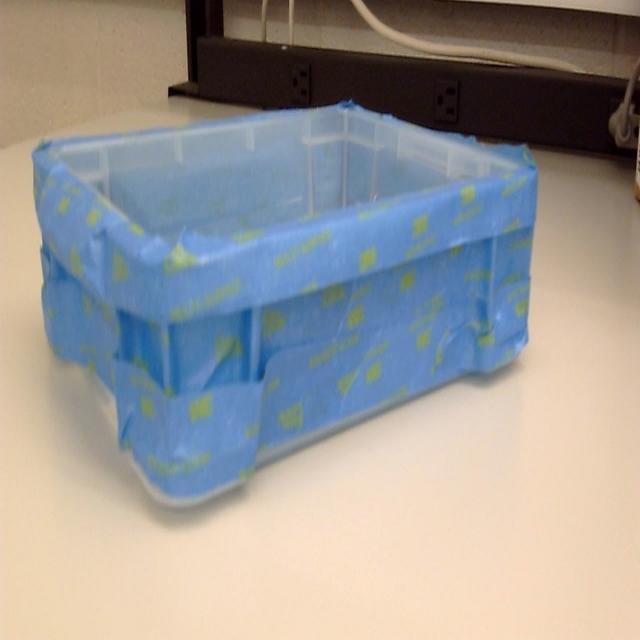bucket: (30, 102, 540, 513)
